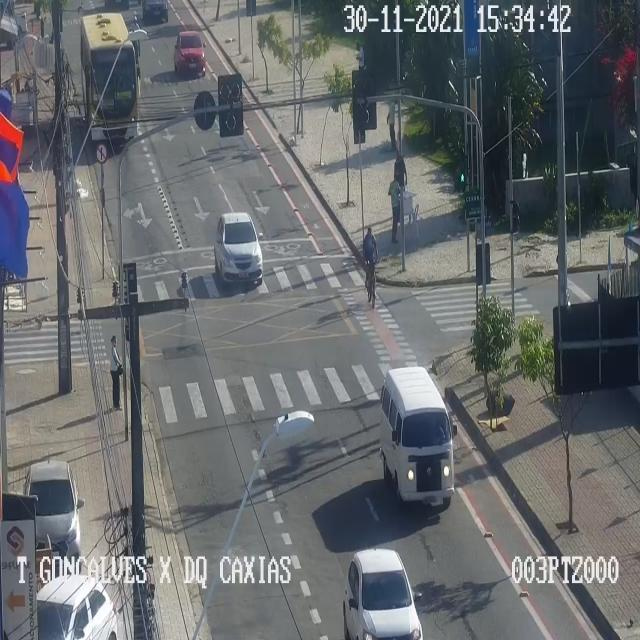Bus: (80, 12, 142, 143)
Car: (380, 367, 457, 512), (342, 548, 422, 639), (27, 462, 81, 558), (37, 575, 113, 639), (212, 209, 265, 291), (173, 26, 208, 74), (141, 0, 172, 24)
